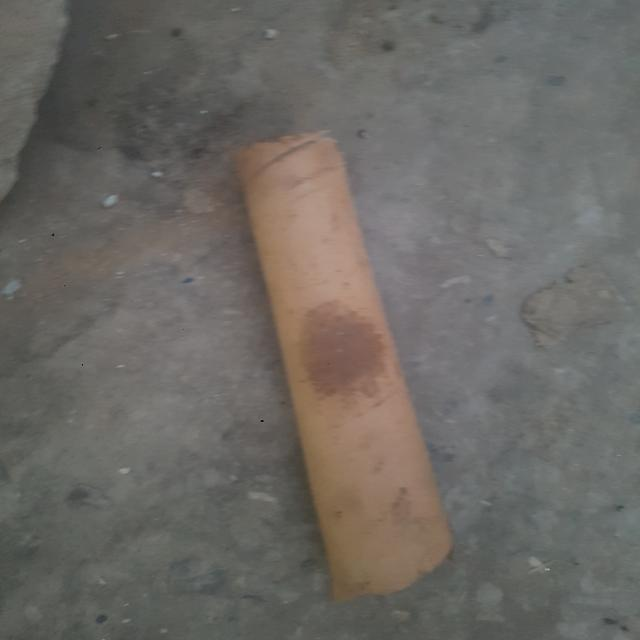electronic: (2, 0, 638, 639), (234, 129, 454, 602)
